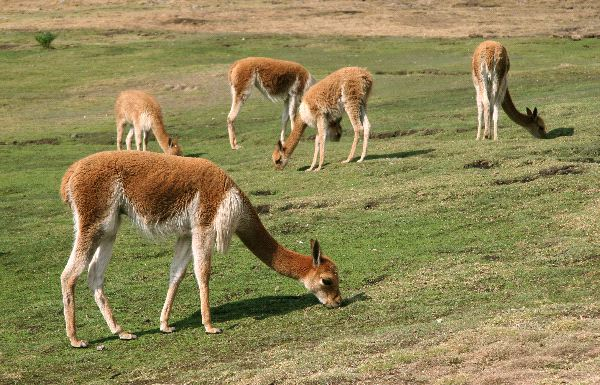eye: (321, 274, 335, 289)
mouth: (324, 298, 346, 313)
